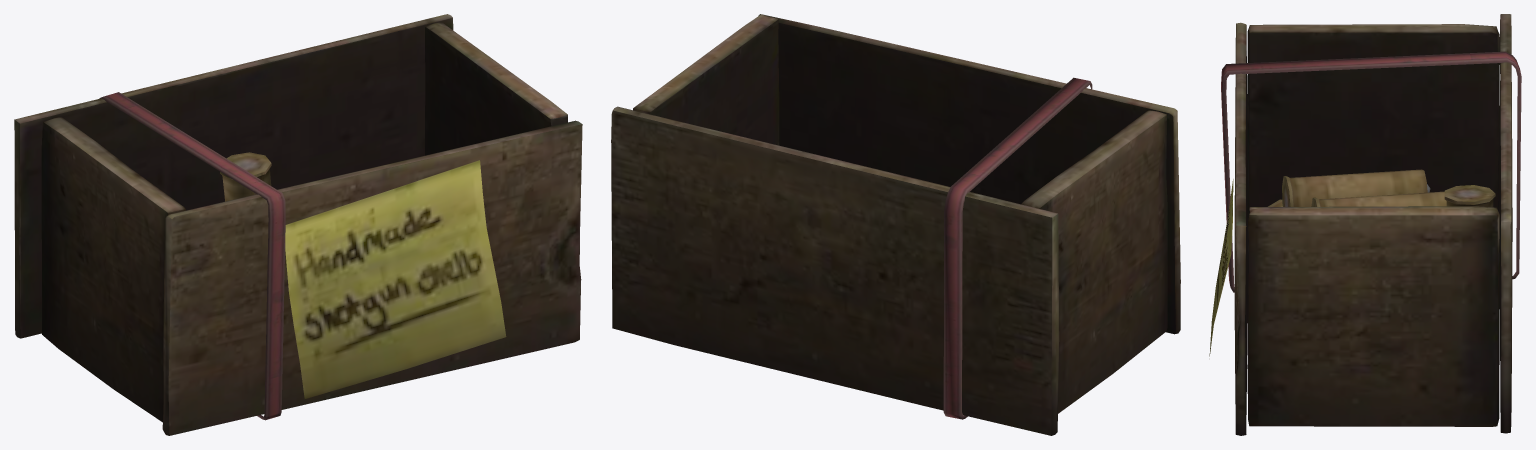
The model's file is handmadeshotgunshellempty.worldmodel.glb.
3 views of the same model, side by side, from view 1: azimuth 30°, elevation 25°; view 2: azimuth 150°, elevation 25°; view 3: azimuth 270°, elevation 25° (orthographic). The views are drawn at different scales.
Visible parts, largest first — view 1: HandmadeShotgunShellEmpty_LOD0; view 2: HandmadeShotgunShellEmpty_LOD0; view 3: HandmadeShotgunShellEmpty_LOD0.
Boxes of the visible parts, x1,y1,x2,y2 form: HandmadeShotgunShellEmpty_LOD0: (14, 14, 582, 435); HandmadeShotgunShellEmpty_LOD0: (611, 14, 1180, 435); HandmadeShotgunShellEmpty_LOD0: (1209, 14, 1521, 435).
Bounding box in the file's own units: 0.246 × 0.1232 × 0.1553.
Materials: 1 (1 with a texture image).
